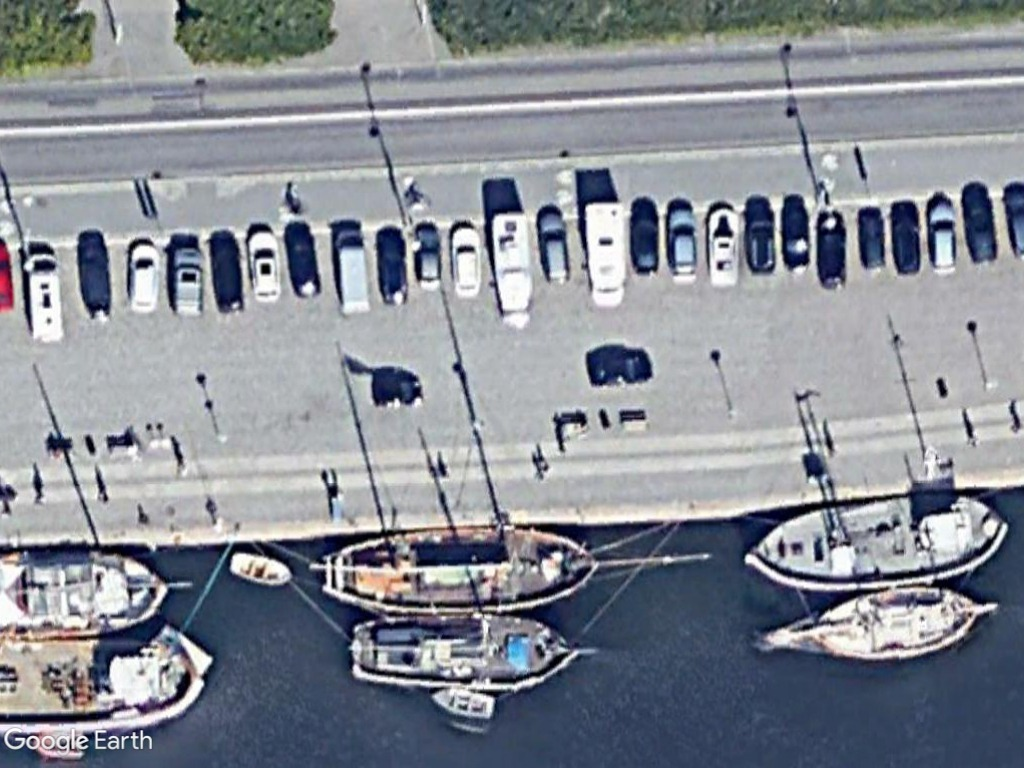boat: (742, 484, 1013, 594), (312, 520, 603, 614), (757, 580, 999, 672), (339, 608, 585, 697), (659, 203, 705, 286), (920, 193, 963, 280), (534, 204, 576, 292), (444, 220, 487, 305), (704, 200, 742, 289), (626, 203, 668, 282), (742, 199, 783, 277), (408, 217, 450, 293), (225, 548, 299, 590), (425, 682, 501, 722), (854, 207, 890, 273)
car: (240, 223, 286, 308), (123, 236, 164, 320), (167, 239, 206, 315)
van: (20, 249, 70, 351), (325, 224, 374, 322)
